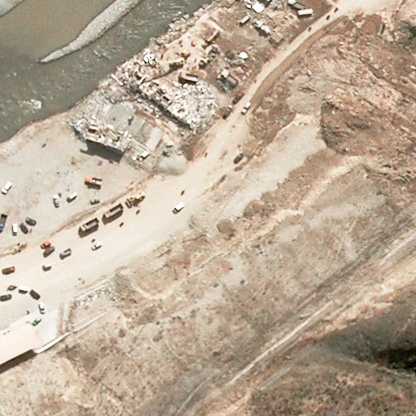collapsed: (95, 48, 221, 131), (65, 109, 159, 172)
